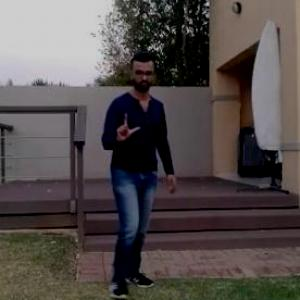land_hand: (110, 108, 146, 149)
